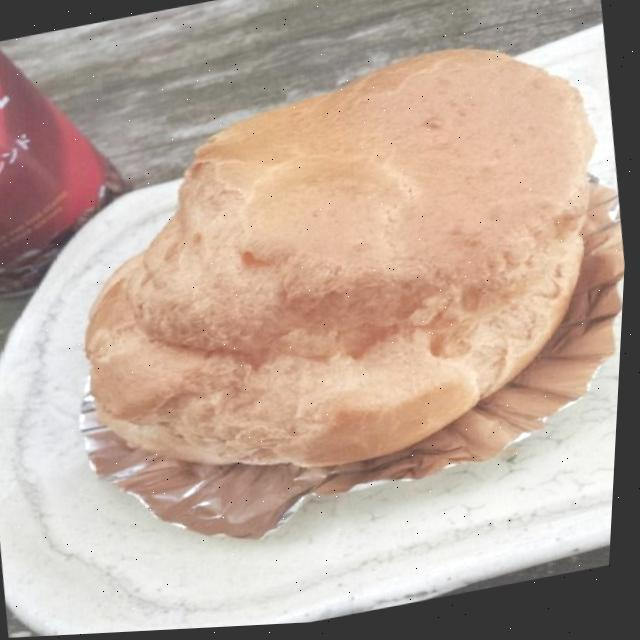炸货点心: (34, 21, 638, 556)
蛋糕甜品: (34, 21, 638, 556)
